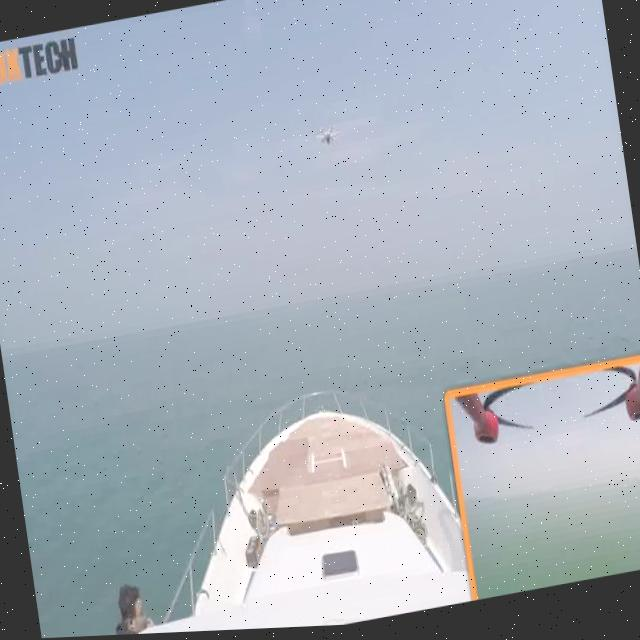drone: (309, 119, 352, 163)
